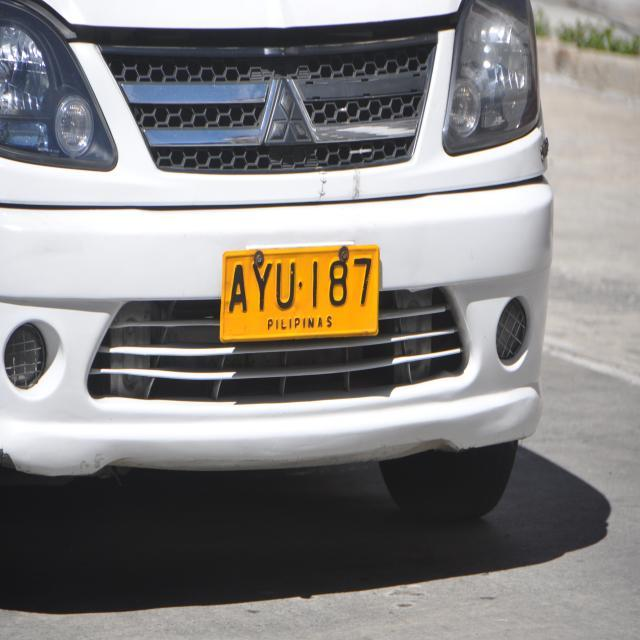LicensePlate: (210, 235, 400, 345)
